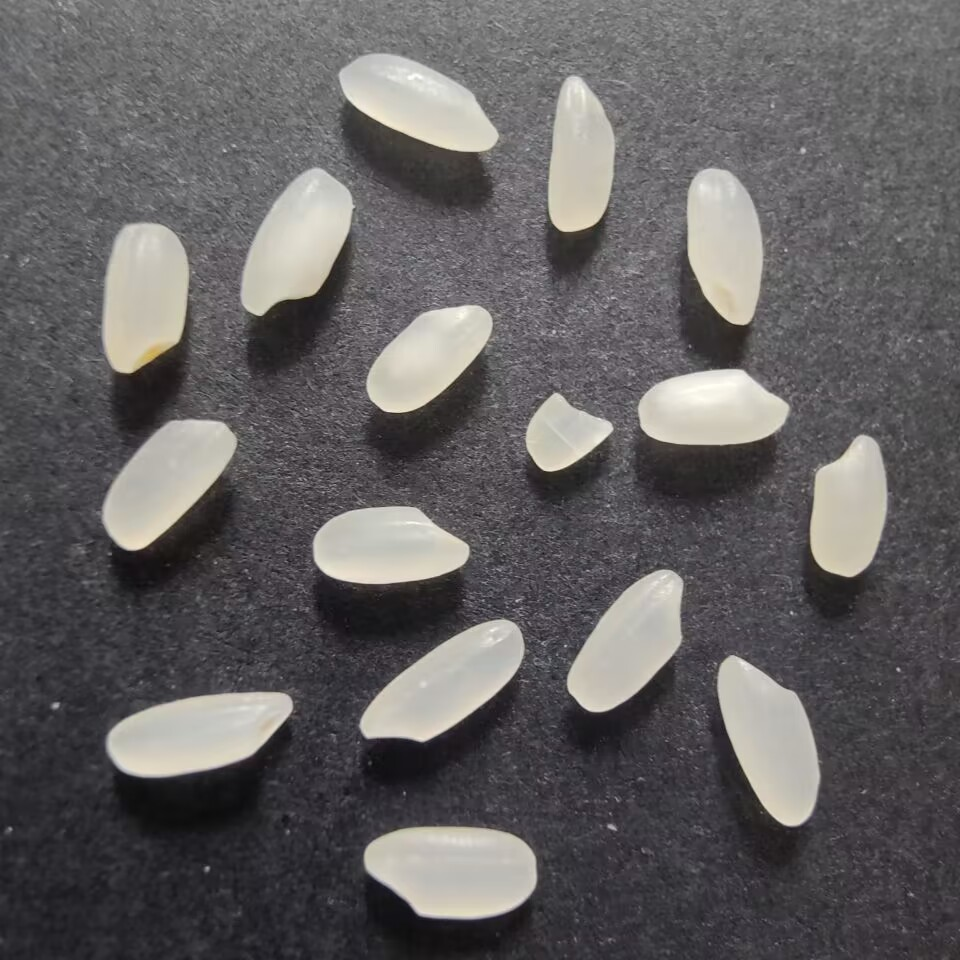broken: (520, 386, 614, 482)
rice: (350, 614, 531, 747), (711, 651, 827, 831), (101, 685, 300, 786), (561, 565, 692, 717), (233, 163, 358, 322), (99, 415, 240, 555), (354, 823, 542, 927), (334, 47, 502, 156), (363, 299, 496, 418), (99, 216, 191, 379), (681, 166, 769, 331), (305, 499, 471, 585), (541, 72, 622, 237), (637, 363, 794, 448), (809, 430, 888, 582)
